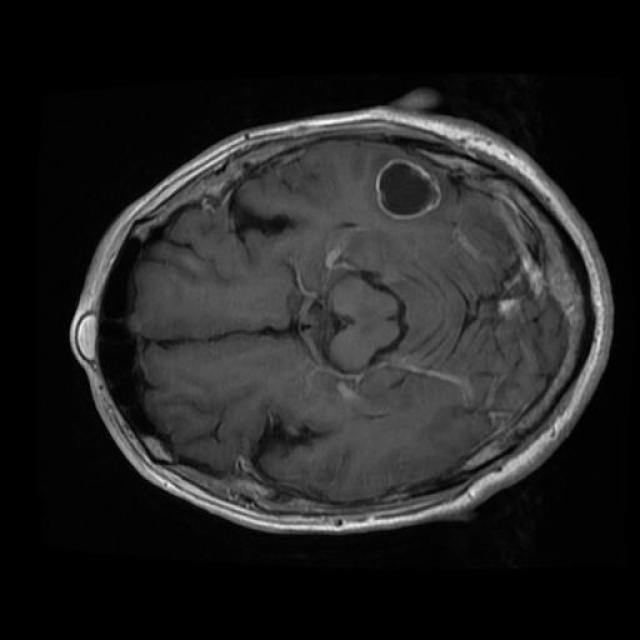Glioma: (376, 159, 440, 218)
